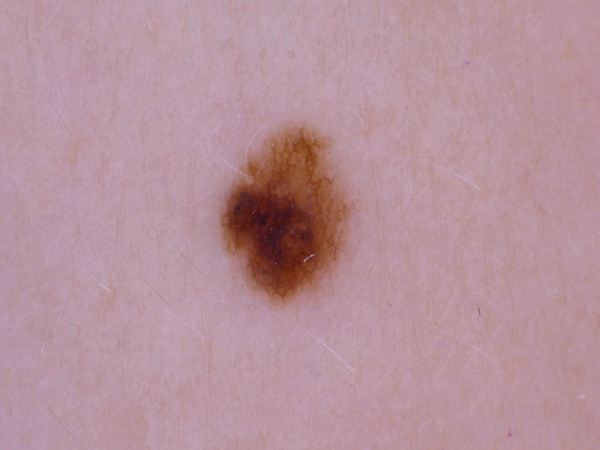Detected Lesion: (214, 114, 356, 308)
